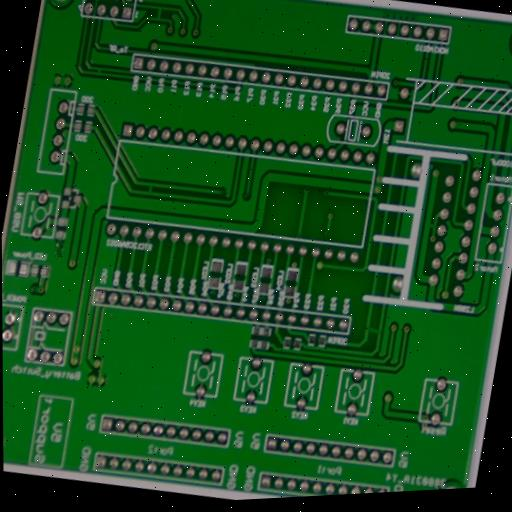short_circuit: (359, 316, 386, 344), (149, 3, 167, 26), (140, 178, 158, 200), (421, 215, 438, 236), (91, 64, 106, 79)
